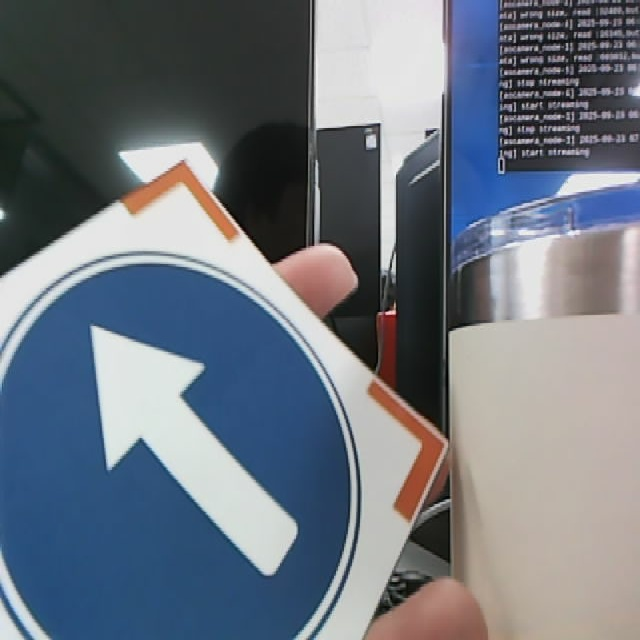strait: (1, 160, 444, 640)
